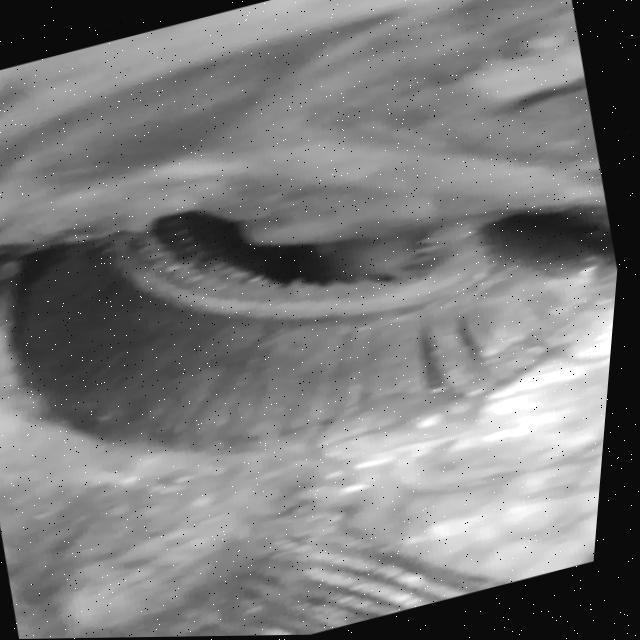Non-Fresh: (0, 92, 634, 559)
